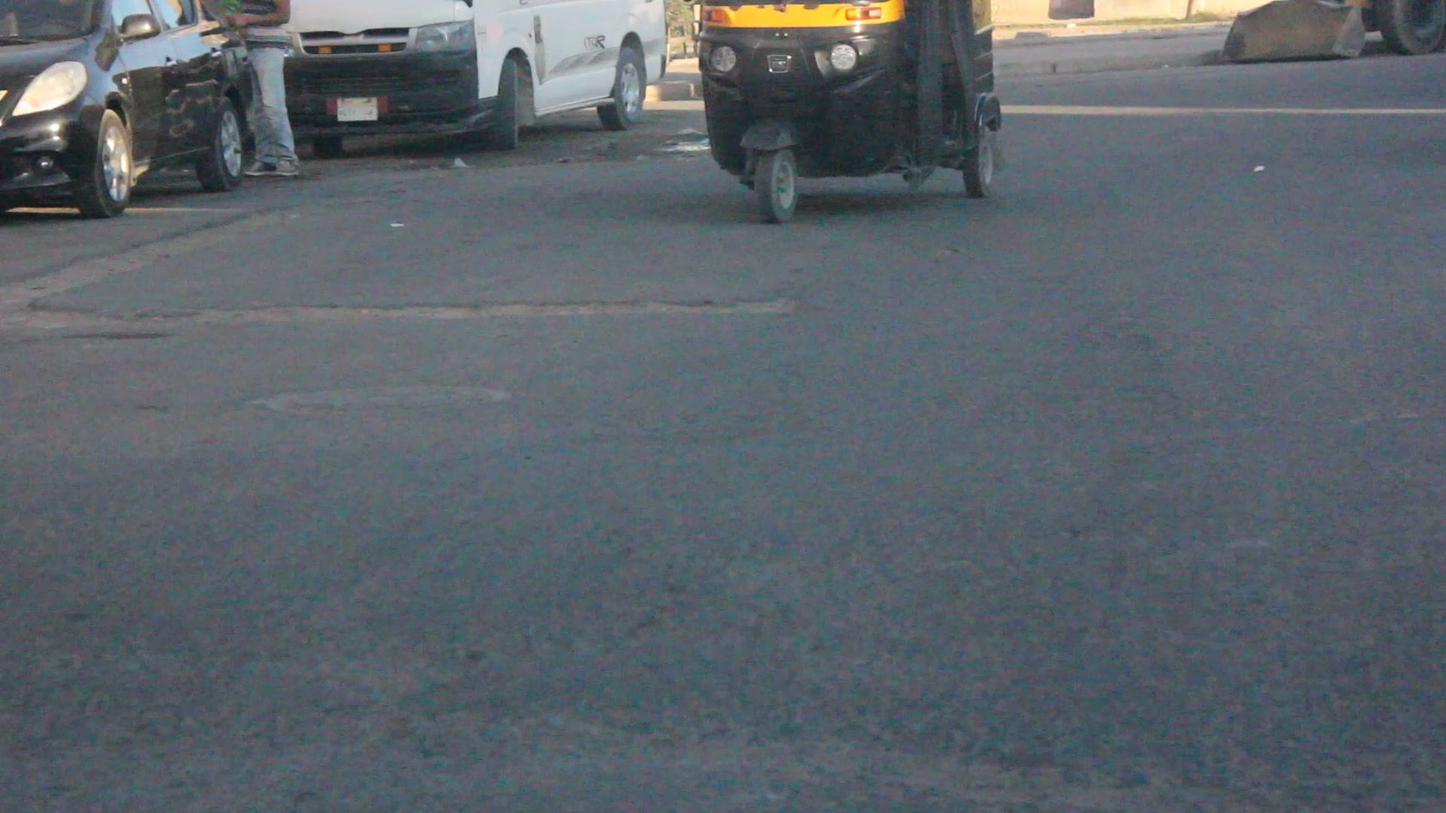Pothole: (64, 294, 823, 333)
